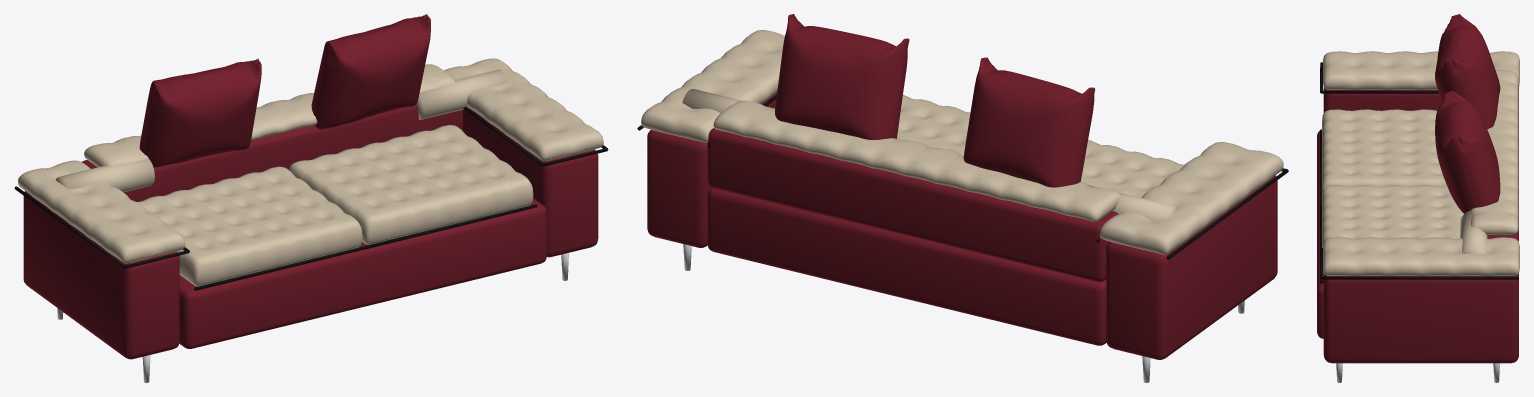
The model's file is divano_lobby_bordeaux.glb.
3 views of the same model, side by side, from view 1: azimuth 30°, elevation 25°; view 2: azimuth 150°, elevation 25°; view 3: azimuth 270°, elevation 25° (orthographic). The views are drawn at different scales.
Visible parts, largest first — view 1: divano_lobby_bordeaux.001; view 2: divano_lobby_bordeaux.001; view 3: divano_lobby_bordeaux.001.
Part boxes in pixels (left/top/right/bottom): divano_lobby_bordeaux.001: left=14, top=14, right=608, bottom=382; divano_lobby_bordeaux.001: left=637, top=14, right=1288, bottom=382; divano_lobby_bordeaux.001: left=1317, top=14, right=1519, bottom=382.
Bounding box in the file's own units: 2.27 × 1.05 × 0.9035.
